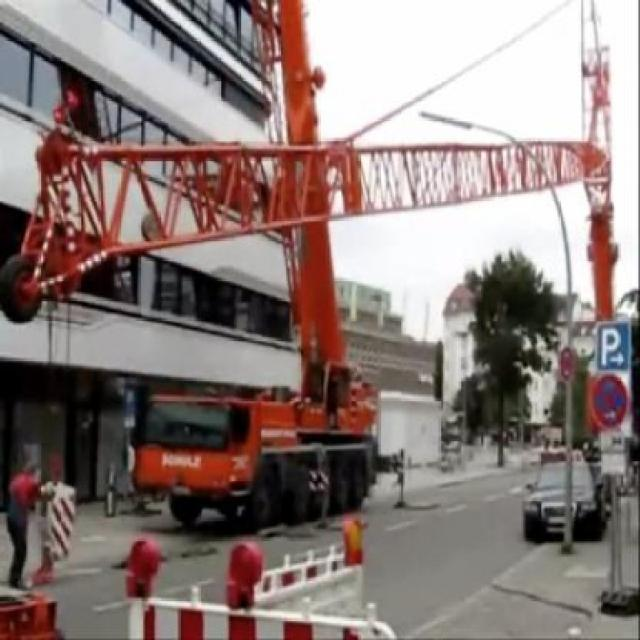Mobile Crane: (131, 2, 432, 526)
